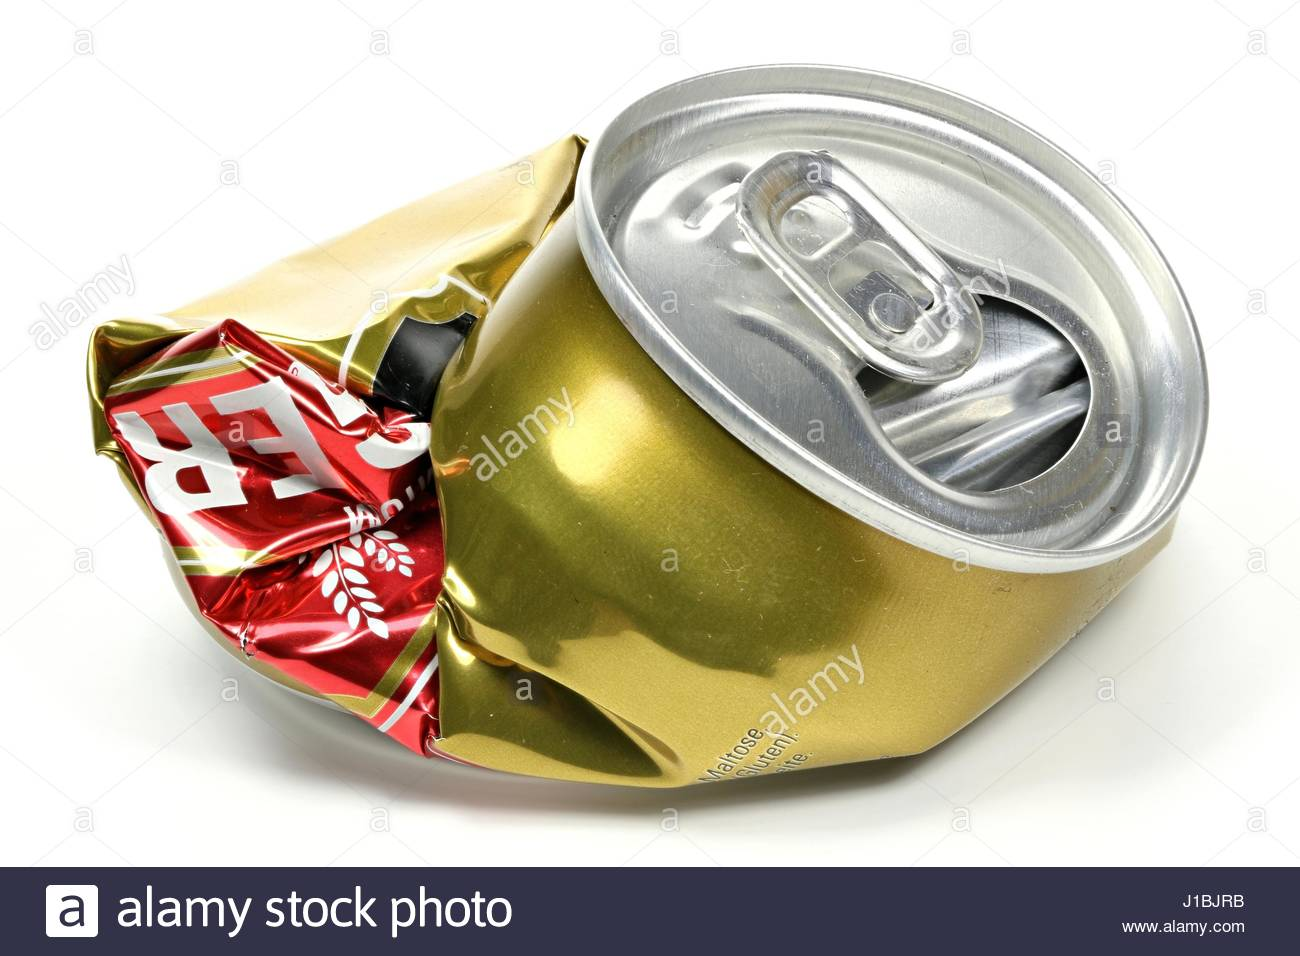Rec_Metal: (55, 55, 1227, 828)
